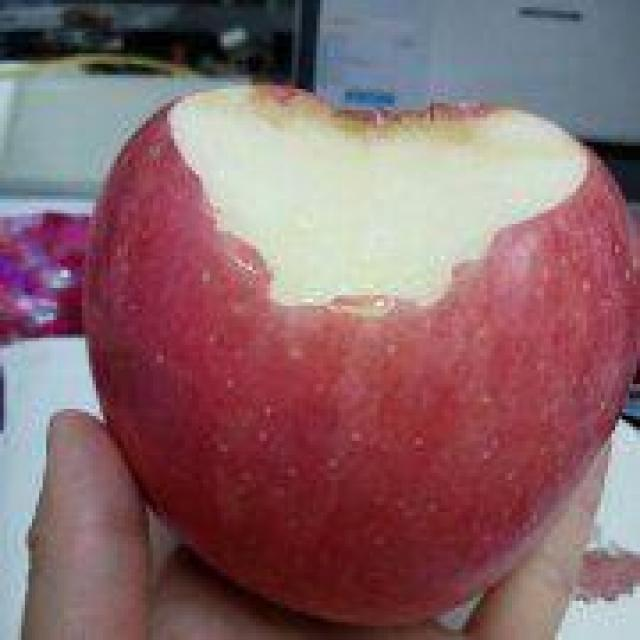Rotten: (74, 67, 640, 632)
